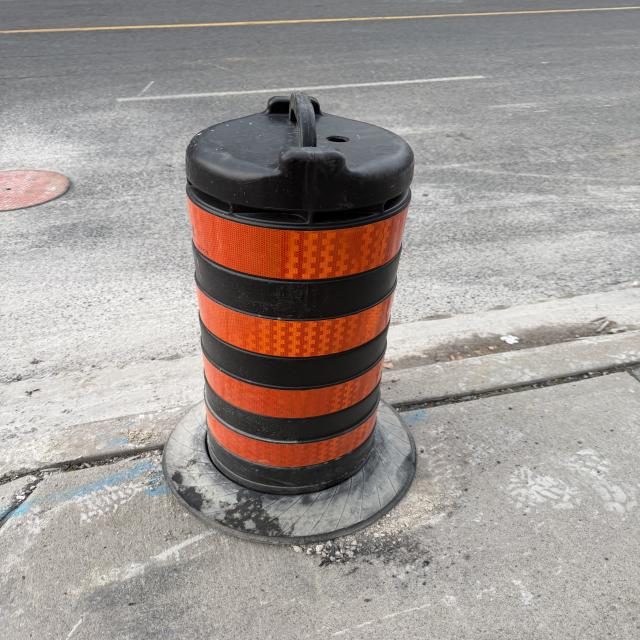Teraffic Barrel: (165, 92, 415, 538)
